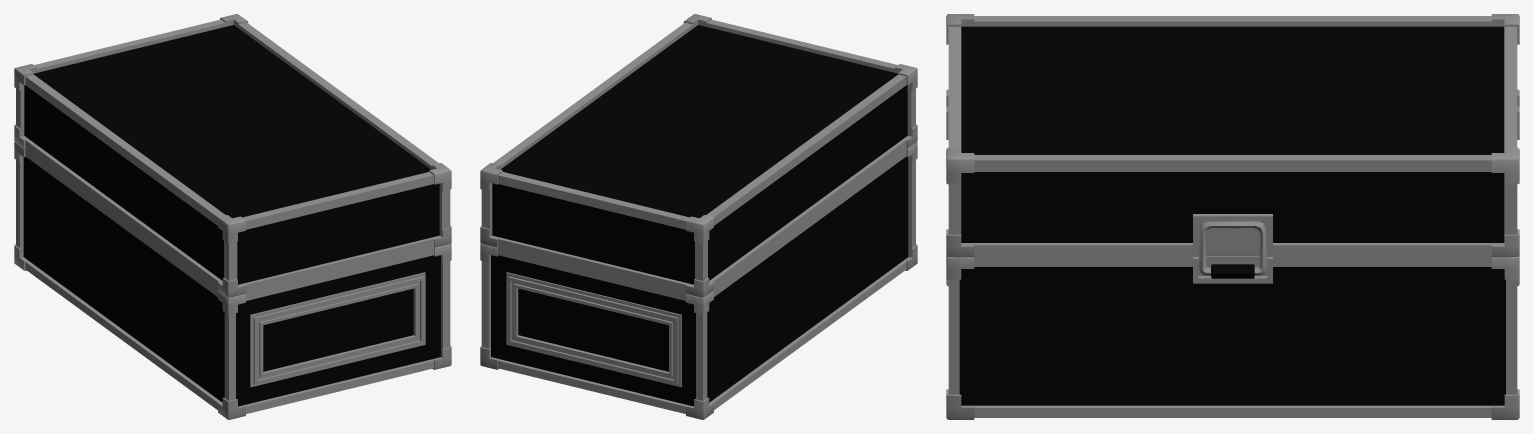
The model's file is StorageCrate_02.glb.
The picture shows the model from 3 angles, left to right: view 1: azimuth 30°, elevation 25°; view 2: azimuth 150°, elevation 25°; view 3: azimuth 270°, elevation 25°; orthographic projection. The views are drawn at different scales.
Visible parts, largest first — view 1: Mesh_StorageCrate_02; view 2: Mesh_StorageCrate_02; view 3: Mesh_StorageCrate_02.
Boxes of the visible parts, x1,y1,x2,y2 form: Mesh_StorageCrate_02: (14,14,451,419); Mesh_StorageCrate_02: (480,14,917,419); Mesh_StorageCrate_02: (946,14,1519,419).
Size of the model in its own units: 0.3094 by 0.2549 by 0.5059.
1 material, 1 textured.
